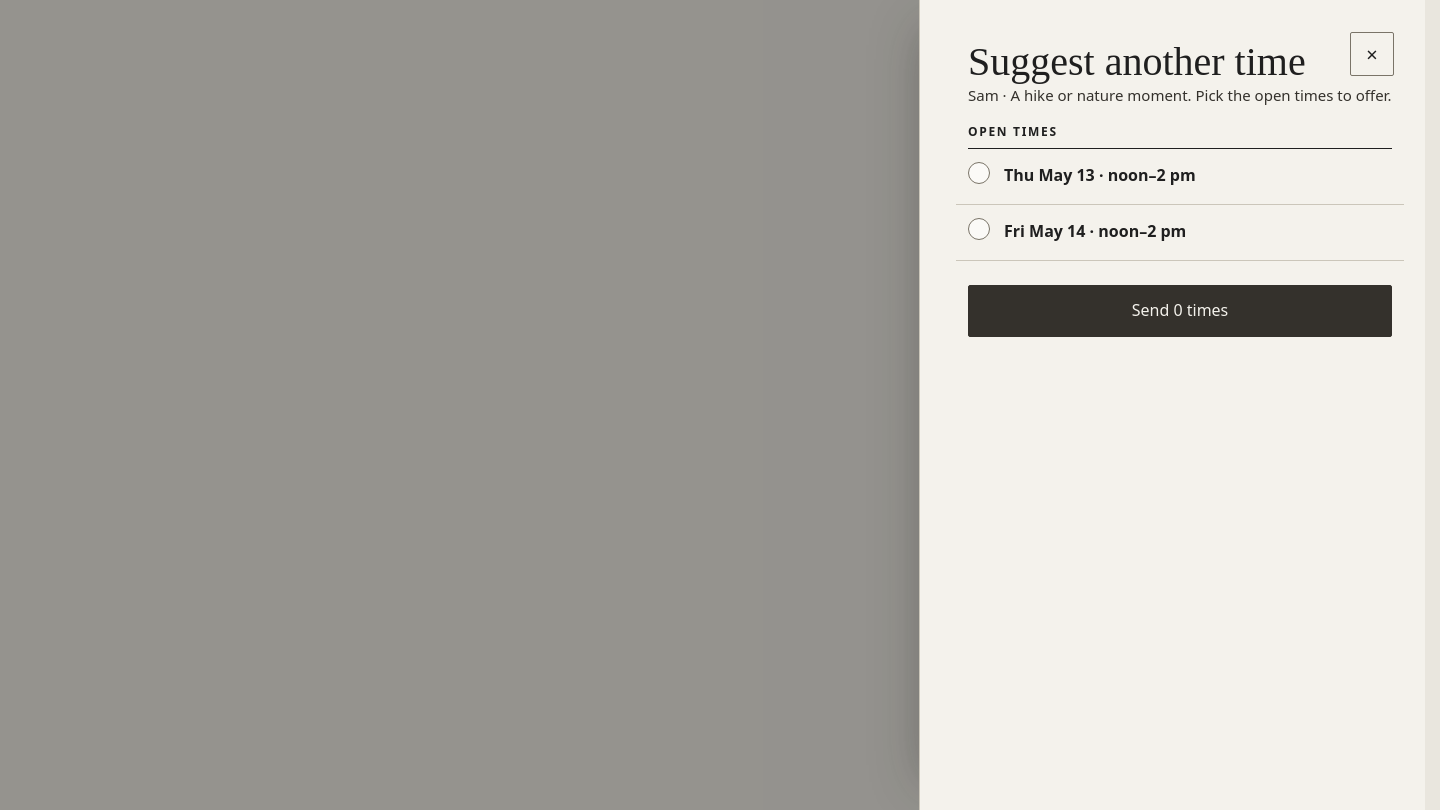
Scenario: A3 sheets (QA r2) › L7: Suggest counts what is ticked: 0 (disabled), 1, then 2
The image size is (1440, 810).
Check: the button "Send 0 times" is shown, box [968,284,1392,336]
Click the checkbox labelled "Thu May 13 · noon–2 pm": [979, 172] box [968,162,990,184]
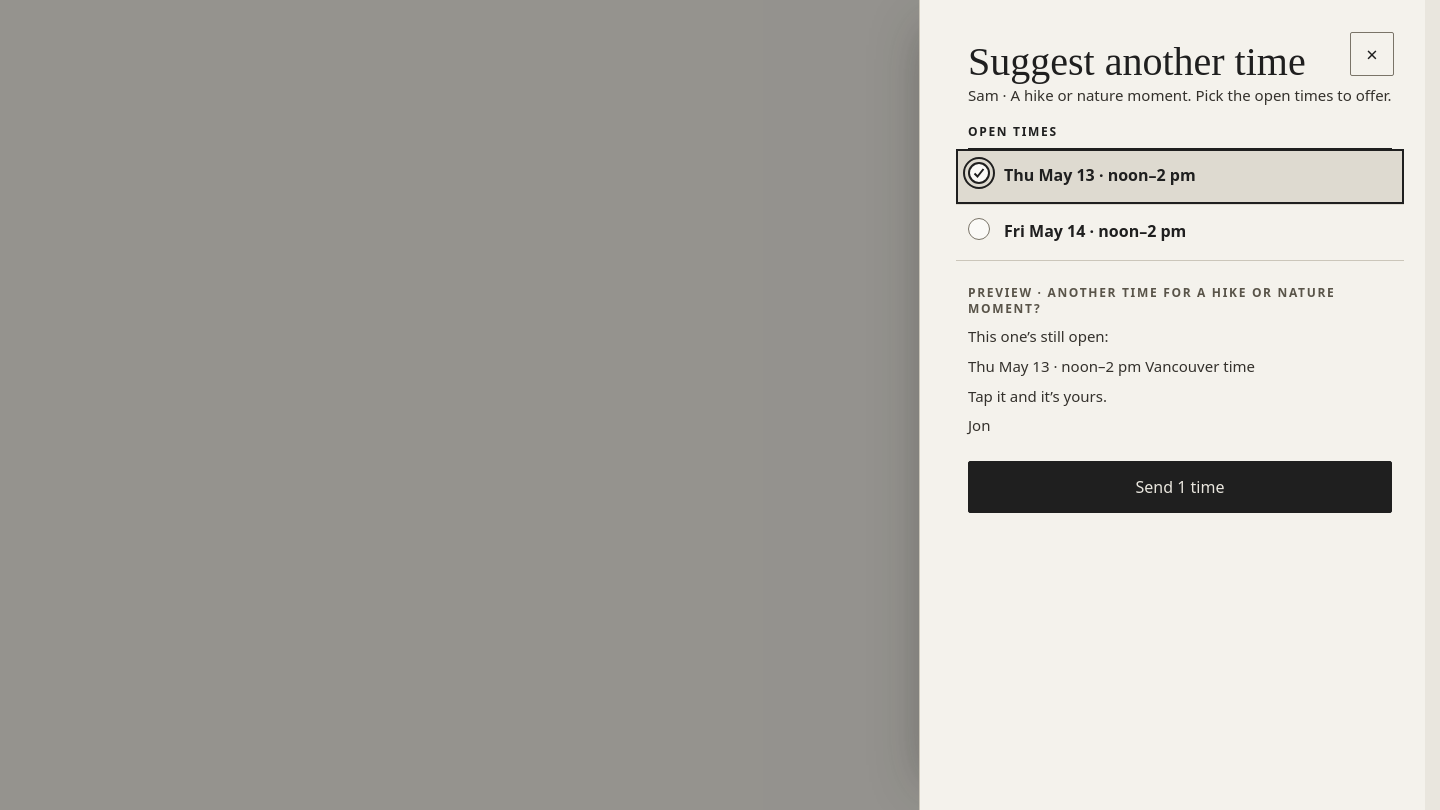
Check: the button "Send 1 time" is shown, box [968,461,1392,513]
Click the checkbox labelled "Fri May 14 · noon–2 pm": [979, 228] box [968,218,990,240]
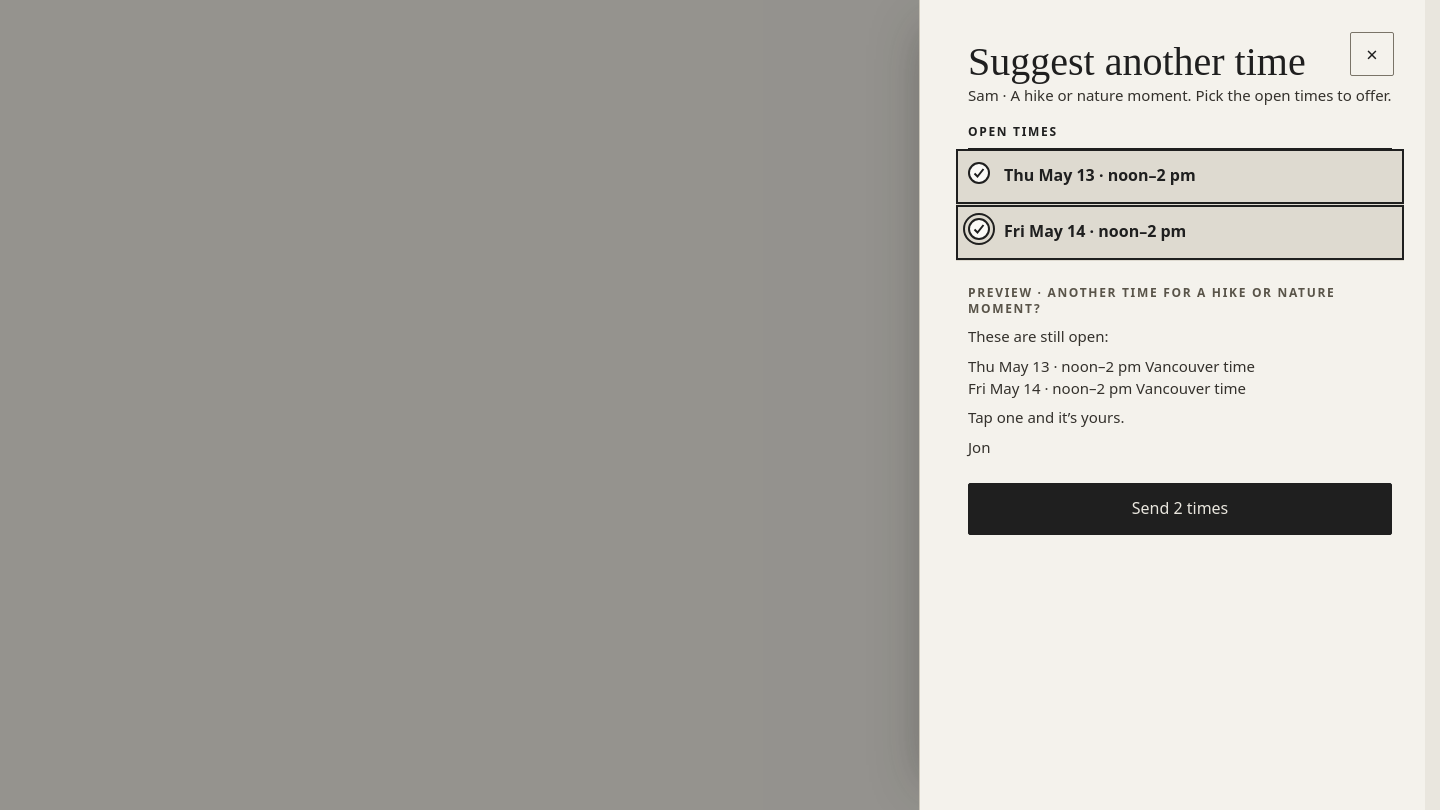
Check: the button "Send 2 times" is shown, box [968,483,1392,535]
